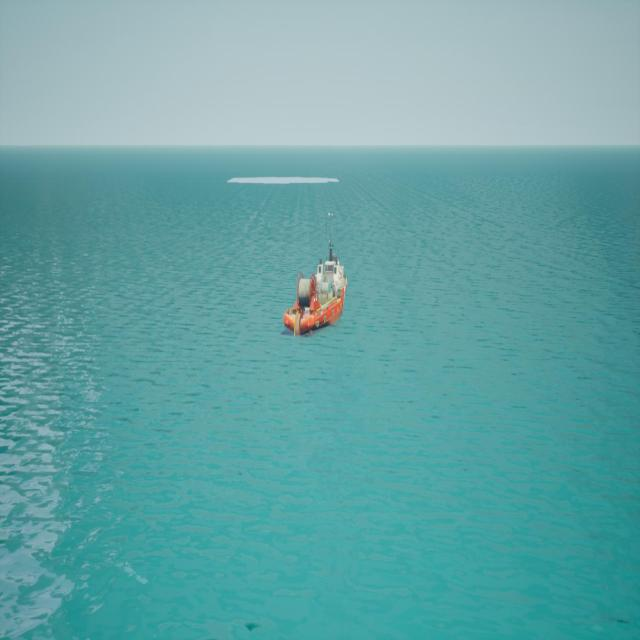tug boat: (286, 215, 349, 339)
